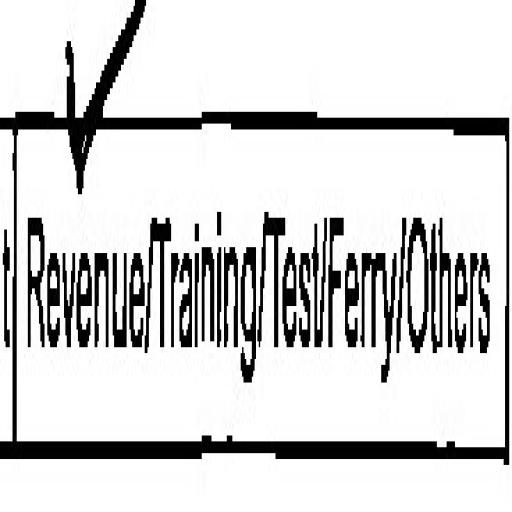check: (13, 0, 149, 495)
